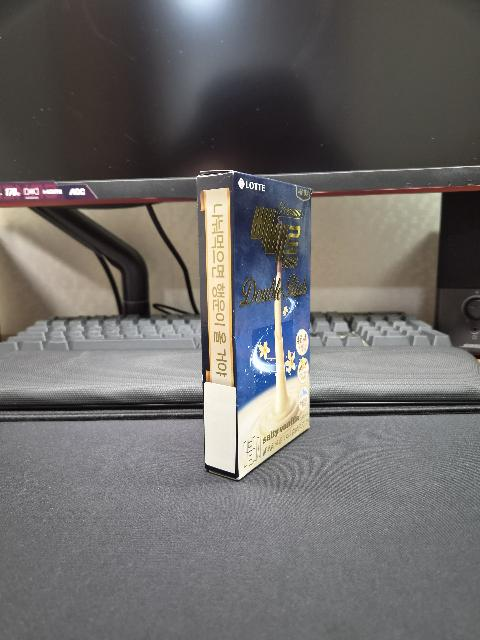pepero: (197, 170, 313, 480)
